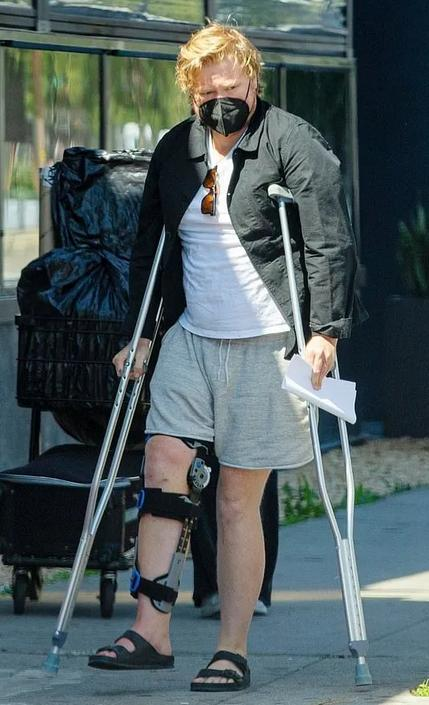crutches: (45, 23, 375, 692)
